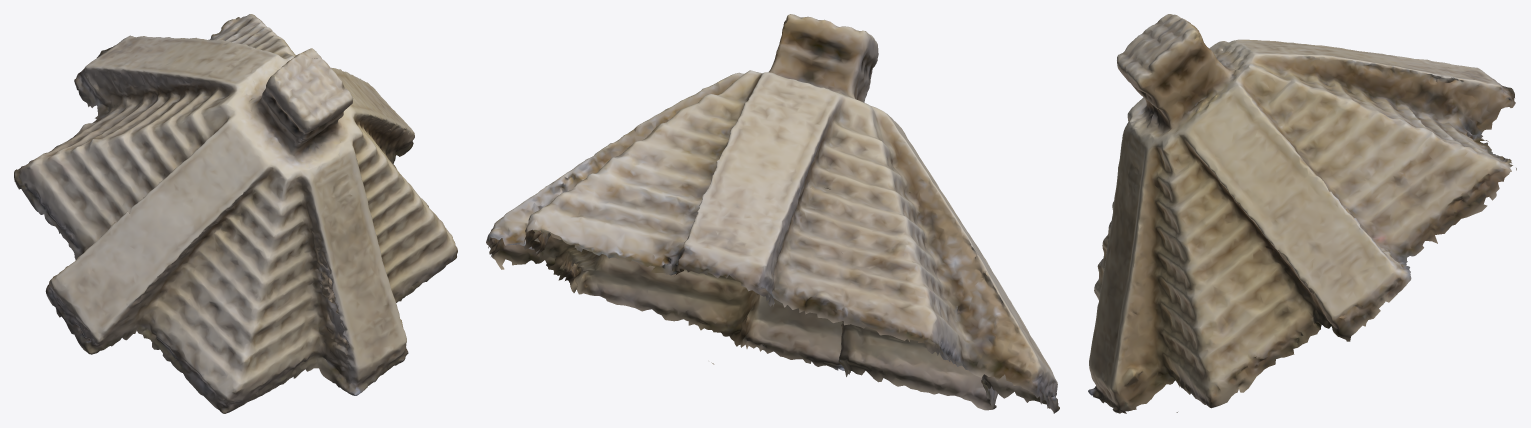
The model's file is piramide.glb.
3 views of the same model, side by side, from view 1: azimuth 30°, elevation 25°; view 2: azimuth 150°, elevation 25°; view 3: azimuth 270°, elevation 25° (orthographic). The views are drawn at different scales.
Visible parts, largest first — view 1: Object_2; view 2: Object_2; view 3: Object_2.
Boxes of the visible parts, x1,y1,x2,y2 form: Object_2: (14,14,457,413); Object_2: (486,14,1059,413); Object_2: (1088,14,1516,413).
Size of the model in its own units: 2.98 by 2.27 by 2.42.
